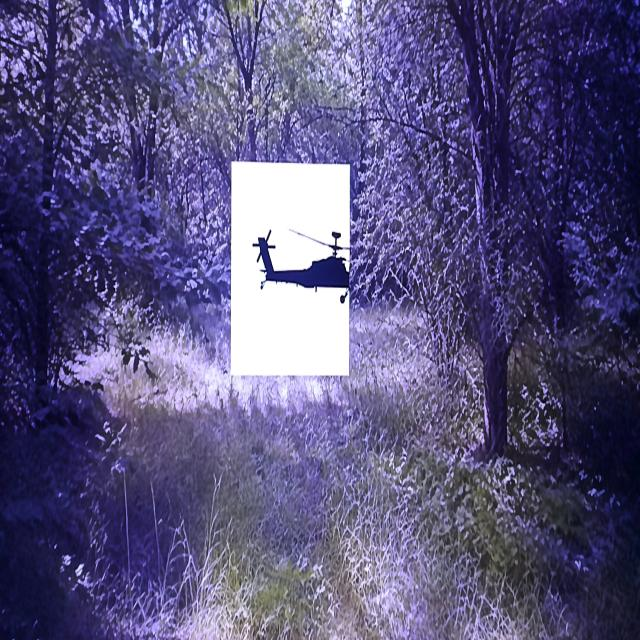Apache friendly: (253, 230, 349, 302)
